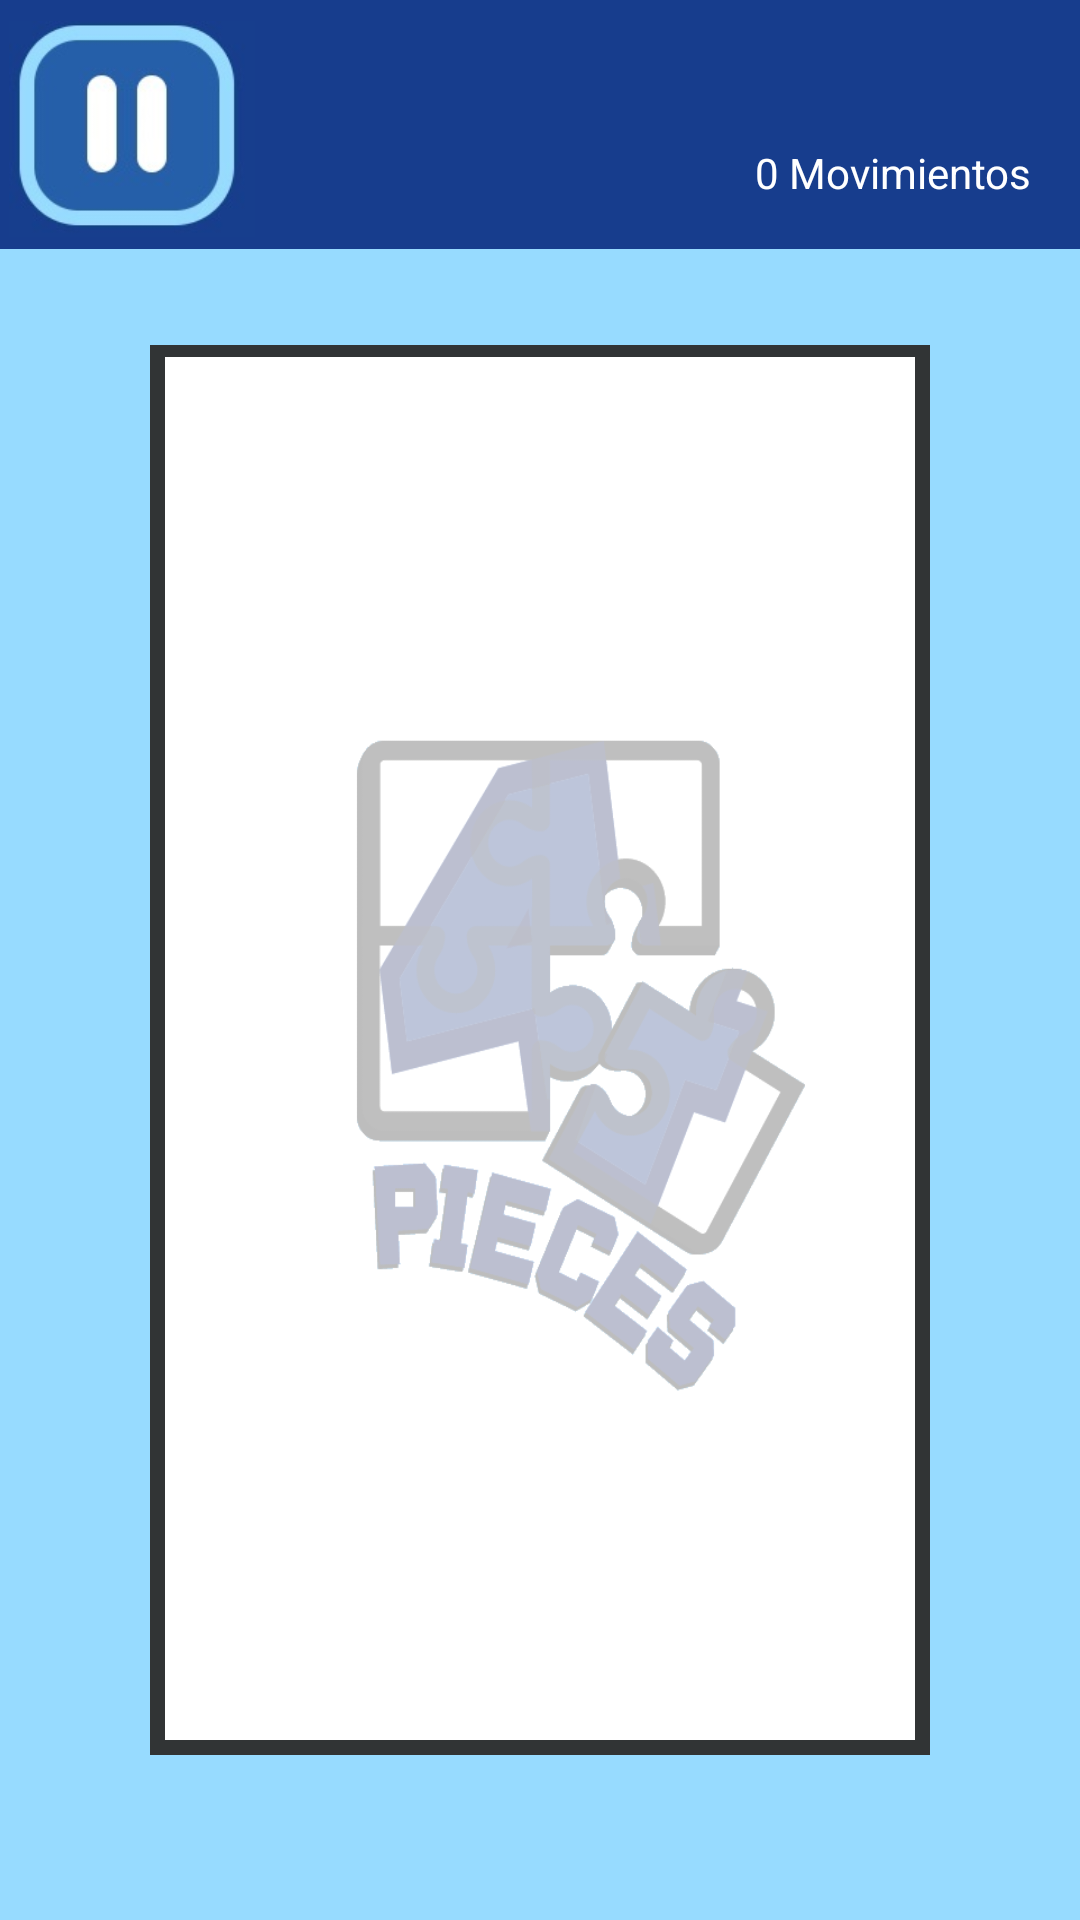

Named icons in this screenshot (1080×1920) and their bounding boxes, bbox=[x1, y1, x2, y2]:
btnpause: bbox=[19, 25, 235, 226]
